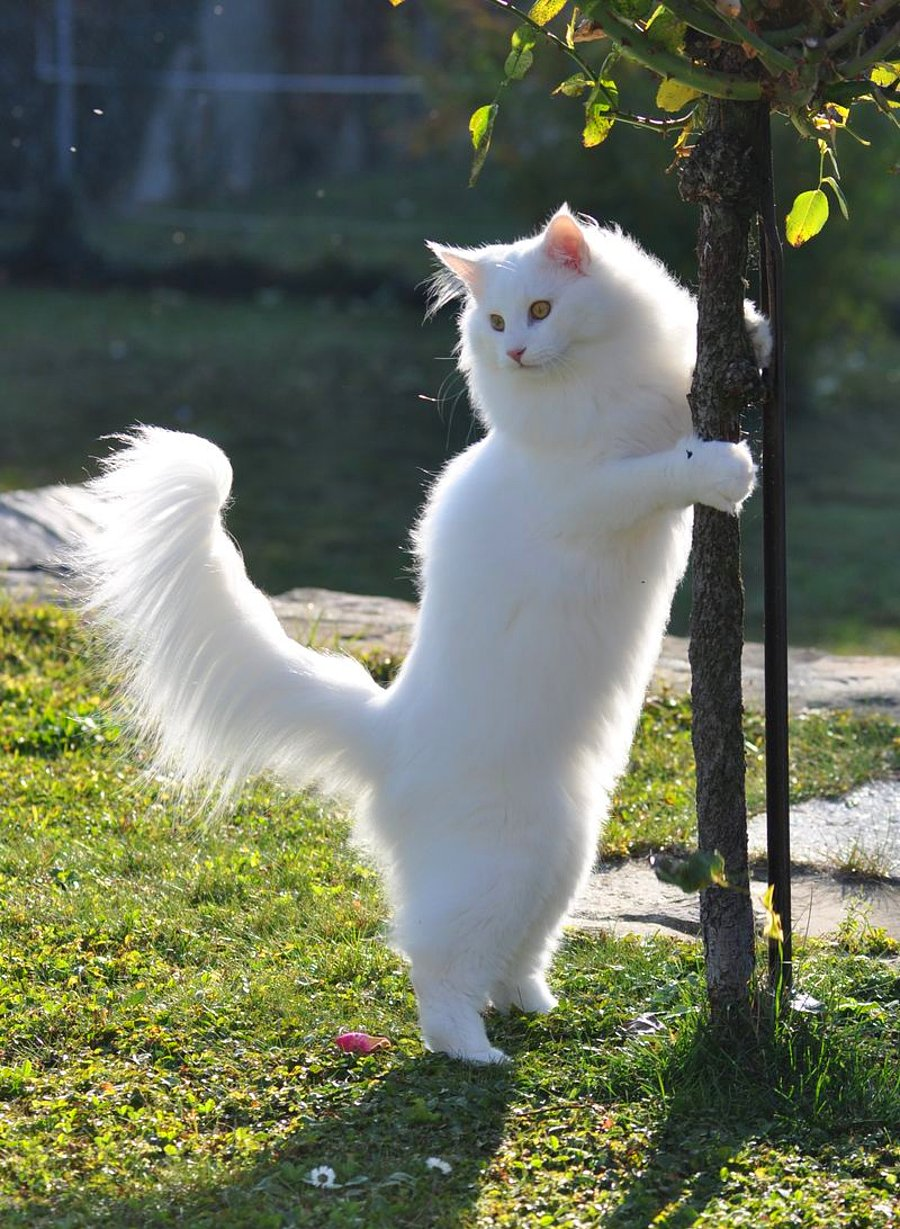cat: (413, 208, 686, 722)
